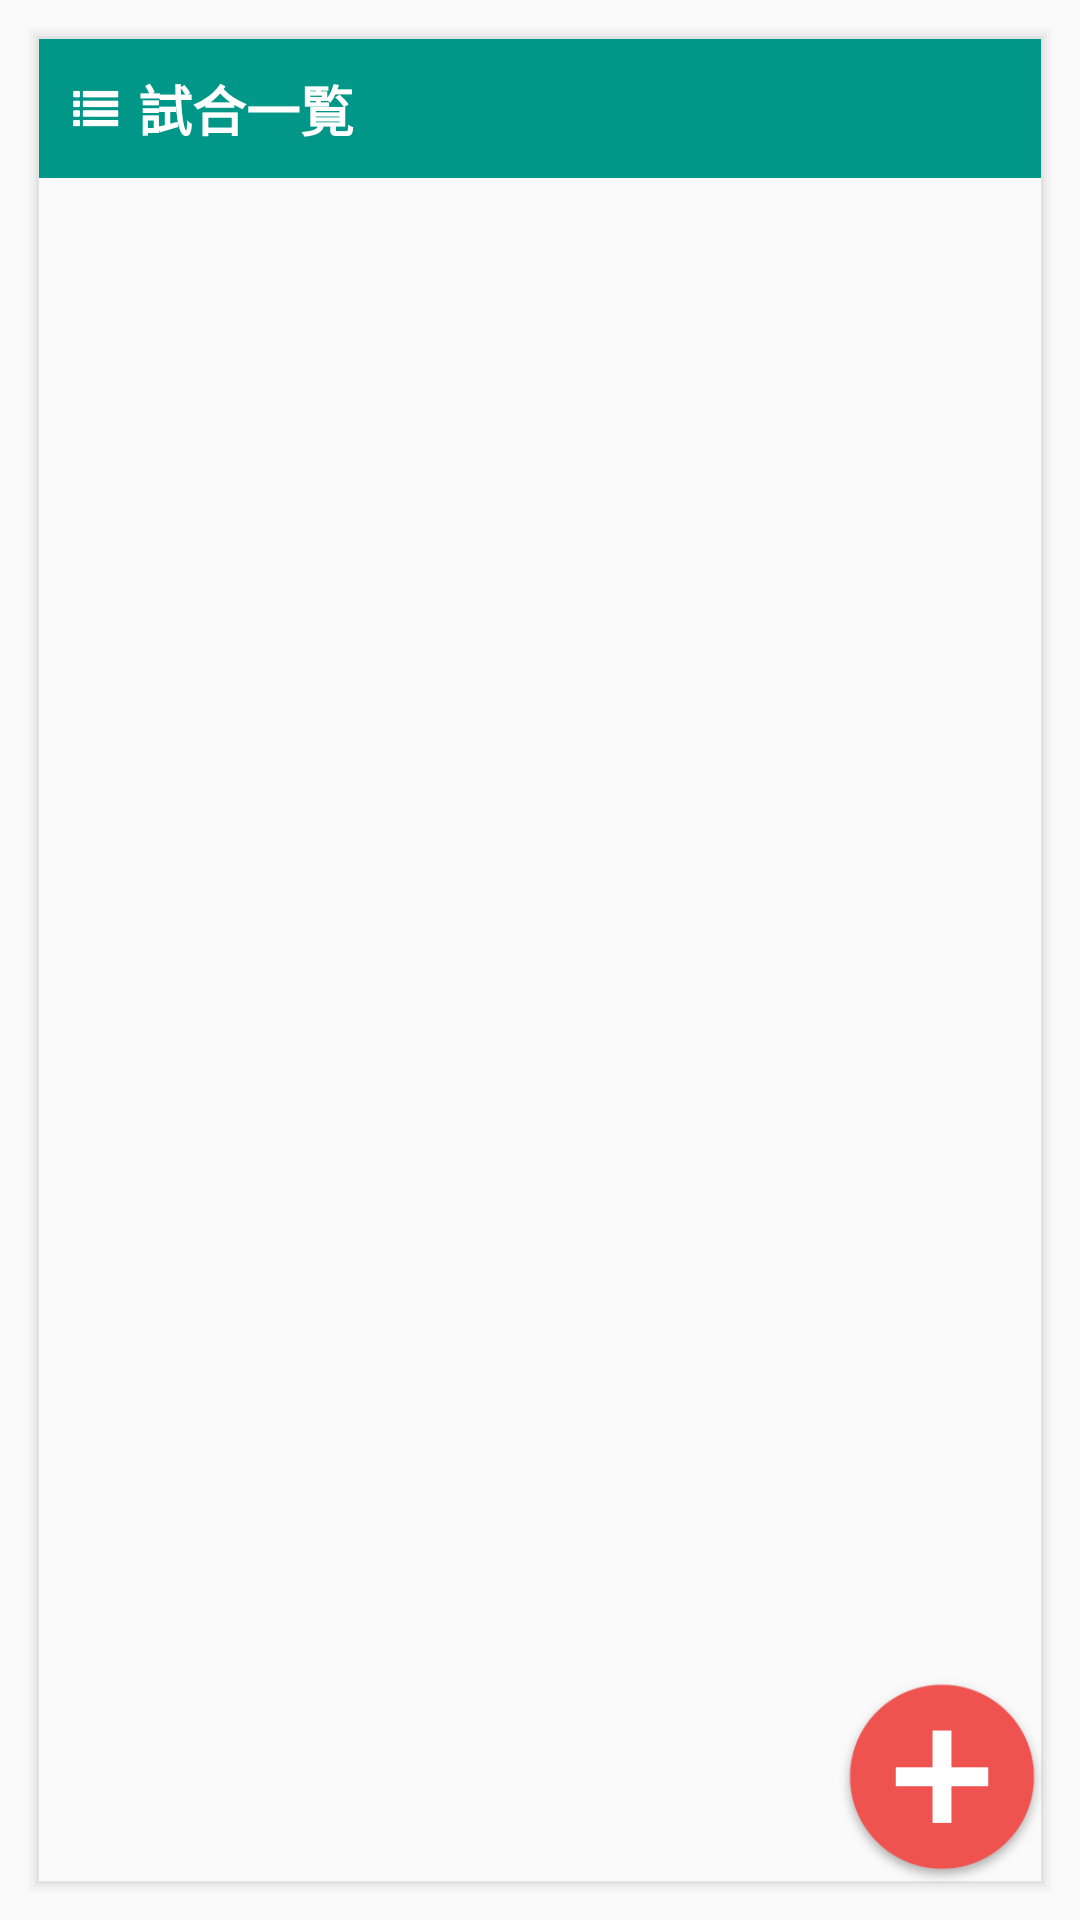

Icon bounding boxes for this 1080w x 1920h phone screenshot, format (x1, y1, x2, y2):
list: (73, 91, 119, 127)
